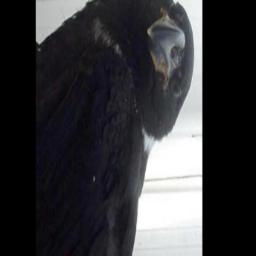Crow: (37, 0, 196, 256)
